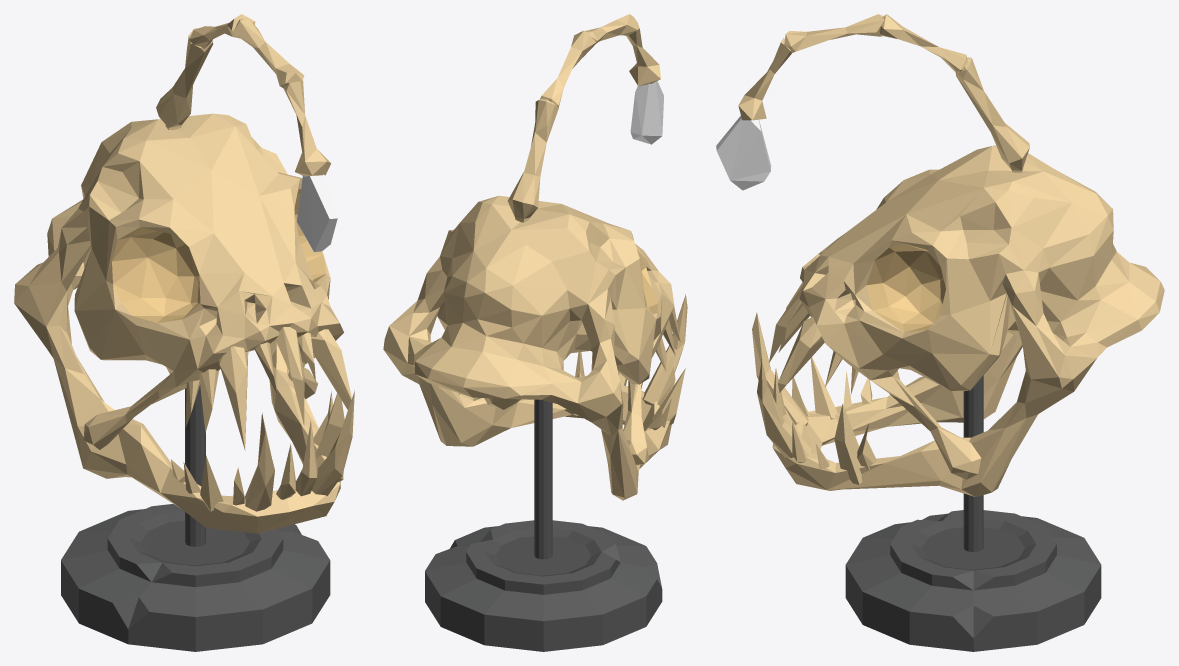
File: Fish_Head_Stand_002.001.fbx
The picture shows the model from 3 angles, left to right: view 1: azimuth 30°, elevation 25°; view 2: azimuth 150°, elevation 25°; view 3: azimuth 270°, elevation 25°; orthographic projection. The views are drawn at different scales.
Parts seen in each view (by area): view 1: Fish_Head_Stand_002.001; view 2: Fish_Head_Stand_002.001; view 3: Fish_Head_Stand_002.001.
Part boxes in pixels (bbox=[...]): Fish_Head_Stand_002.001: bbox=[14, 14, 354, 651]; Fish_Head_Stand_002.001: bbox=[383, 14, 687, 651]; Fish_Head_Stand_002.001: bbox=[716, 14, 1164, 651].
Size of the model in its own units: 0.4489 by 0.9748 by 0.6791.
